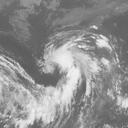cyclone: (39, 29, 113, 94)
